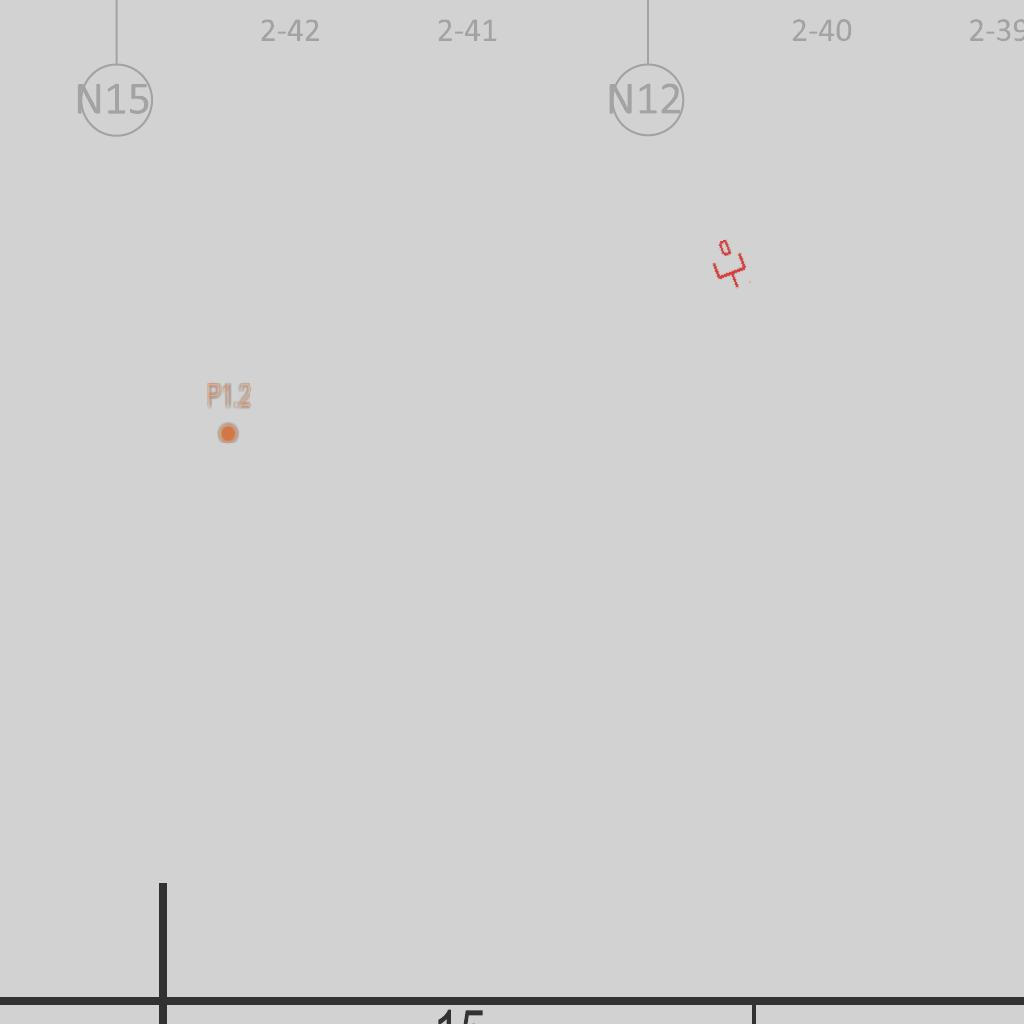Datenanschluss_einfach: (704, 235, 754, 295)
Downlight_LED_Einbauleuchten_Flur: (206, 381, 252, 445)
